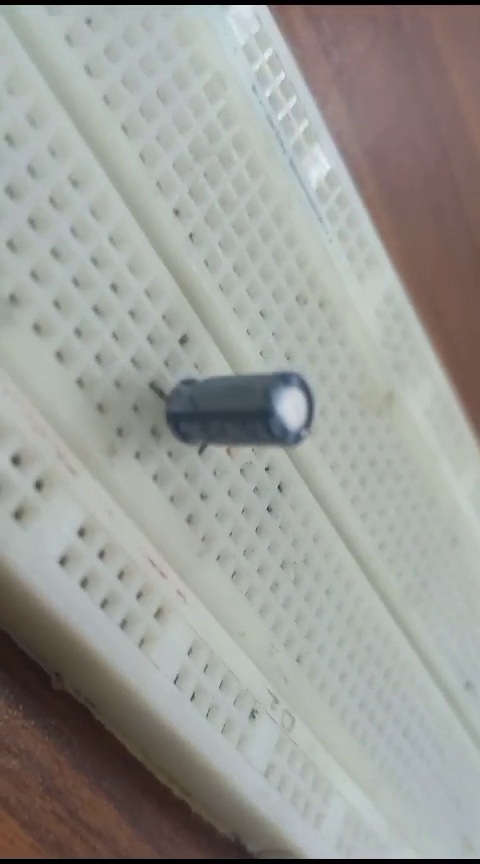capacitor: (143, 349, 319, 469)
